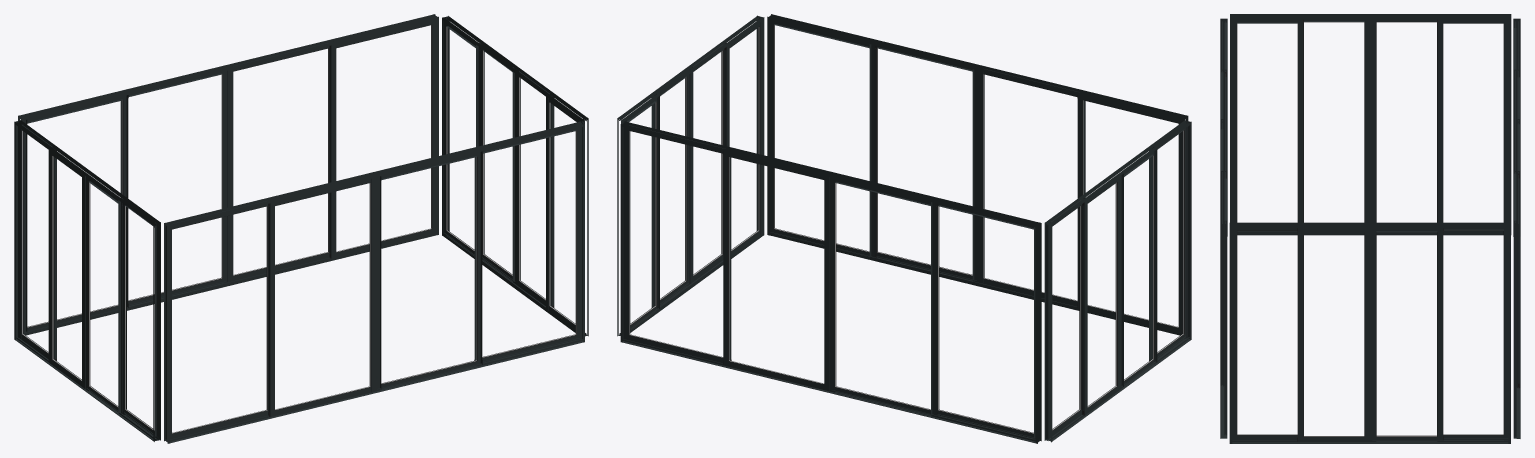
The picture shows the model from 3 angles, left to right: view 1: azimuth 30°, elevation 25°; view 2: azimuth 150°, elevation 25°; view 3: azimuth 270°, elevation 25°; orthographic projection.
Parts seen in each view (by area): view 1: priximbattable_net_pergolanda_354468_pergolanda_toit_plat_av, folha2_3, folha1, folha3_3, folha2, folha2_4, folha3_4, folha4, folha4_3, folha1_3, folha2_2, folha3 (+5 smaller); view 2: priximbattable_net_pergolanda_354468_pergolanda_toit_plat_av, folha2, folha3, folha4_3, folha2_4, folha1, folha1_3, folha2_3, folha2_2, folha4, folha3_3, folha3_4 (+5 smaller); view 3: priximbattable_net_pergolanda_354468_pergolanda_toit_plat_av, folha2_2, folha3_2, folha1_4, folha4_4, folha2_4, folha1_2, folha4_2, folha3_4, folha2, folha4_3, folha1 (+4 smaller).
Boxes of the visible parts, left/top/right/bottom form: priximbattable_net_pergolanda_354468_pergolanda_toit_plat_av: left=14, top=14, right=588, bottom=443; folha2_3: left=268, top=177, right=377, bottom=416; folha1: left=329, top=19, right=436, bottom=258; folha3_3: left=377, top=151, right=482, bottom=389; folha2: left=225, top=43, right=329, bottom=282; folha2_4: left=48, top=149, right=87, bottom=389; folha3_4: left=85, top=176, right=123, bottom=414; folha4: left=21, top=95, right=128, bottom=332; folha4_3: left=474, top=128, right=579, bottom=362; folha1_3: left=165, top=200, right=268, bottom=439; folha2_2: left=515, top=68, right=554, bottom=307; folha3: left=120, top=71, right=227, bottom=306; priximbattable_net_pergolanda_354468_pergolanda_toit_plat_av: left=617, top=14, right=1191, bottom=443; folha2: left=723, top=151, right=831, bottom=390; folha3: left=829, top=177, right=937, bottom=415; folha4_3: left=771, top=20, right=876, bottom=257; folha2_4: left=1082, top=175, right=1121, bottom=415; folha1: left=624, top=125, right=731, bottom=363; folha1_3: left=1077, top=95, right=1185, bottom=333; folha2_3: left=977, top=67, right=1085, bottom=306; folha2_2: left=687, top=42, right=726, bottom=284; folha4: left=937, top=203, right=1040, bottom=439; folha3_3: left=876, top=46, right=976, bottom=281; folha3_4: left=1121, top=149, right=1157, bottom=386; priximbattable_net_pergolanda_354468_pergolanda_toit_plat_av: left=1220, top=14, right=1520, bottom=443; folha2_2: left=1297, top=228, right=1372, bottom=441; folha3_2: left=1372, top=228, right=1443, bottom=441; folha1_4: left=1437, top=19, right=1508, bottom=232; folha4_4: left=1232, top=19, right=1303, bottom=231; folha2_4: left=1368, top=19, right=1437, bottom=222; folha1_2: left=1232, top=228, right=1297, bottom=440; folha4_2: left=1443, top=228, right=1508, bottom=440; folha3_4: left=1303, top=19, right=1368, bottom=222; folha2: left=1516, top=121, right=1520, bottom=388; folha4_3: left=1223, top=171, right=1227, bottom=435; folha1: left=1513, top=171, right=1517, bottom=437.
Bounding box in the file's own units: 499 × 240 × 299.
Materials: 1 (1 with a texture image).
